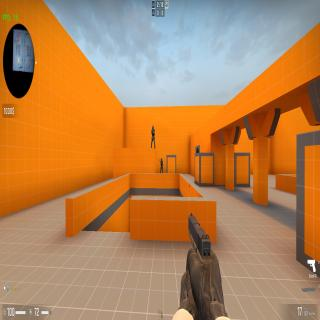CT-Body: (150, 125, 156, 149), (160, 158, 163, 174)
CT-Head: (152, 125, 154, 129), (161, 158, 162, 162)
